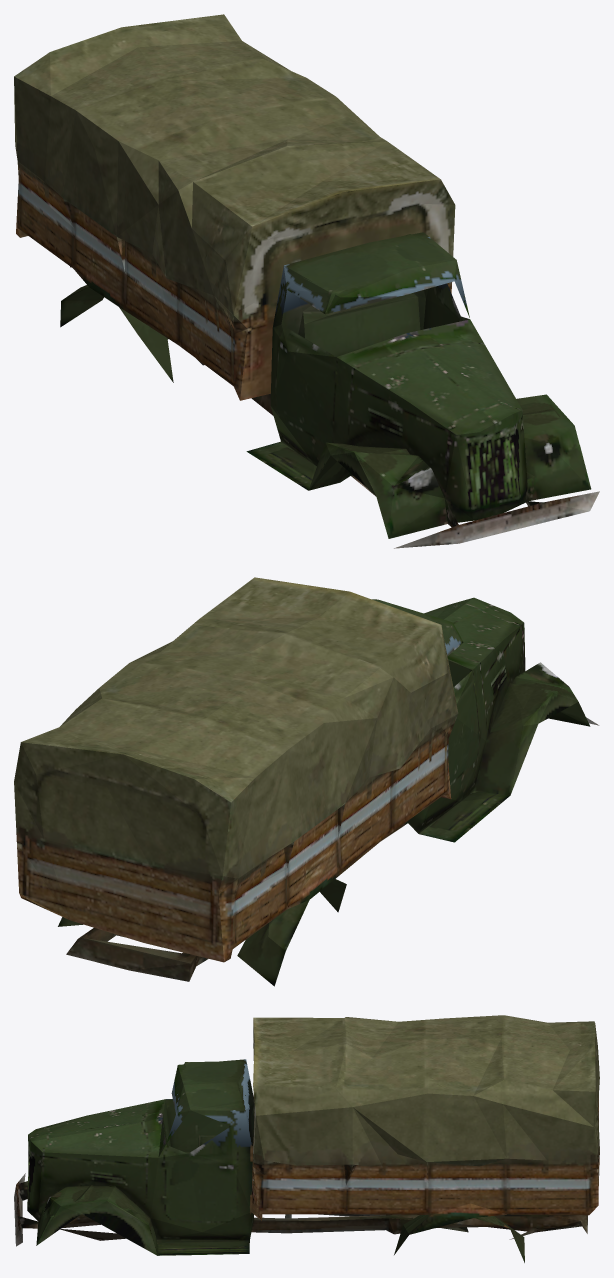
File: truck.obj
The picture shows the model from 3 angles, top to bottom: view 1: azimuth 30°, elevation 25°; view 2: azimuth 150°, elevation 25°; view 3: azimuth 270°, elevation 25°; orthographic projection. The views are drawn at different scales.
Size of the model in its own units: 0.3461 by 0.348 by 0.9902.
1 material, 1 textured.
